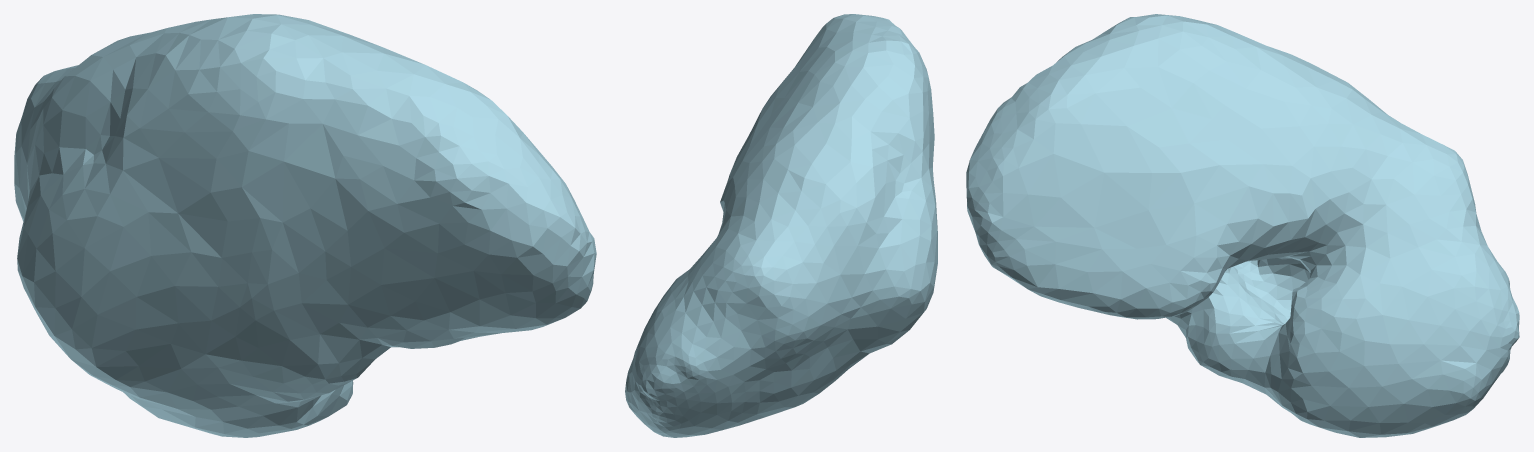
File: rightkidney.obj
The picture shows the model from 3 angles, left to right: view 1: azimuth 30°, elevation 25°; view 2: azimuth 150°, elevation 25°; view 3: azimuth 270°, elevation 25°; orthographic projection. The views are drawn at different scales.
Visible parts, largest first — view 1: grp1; view 2: grp1; view 3: grp1.
Part boxes in pixels (left/top/right/bottom): grp1: left=14, top=14, right=596, bottom=437; grp1: left=625, top=14, right=937, bottom=437; grp1: left=966, top=14, right=1519, bottom=437.
Size of the model in its own units: 61.37 by 77.53 by 106.
